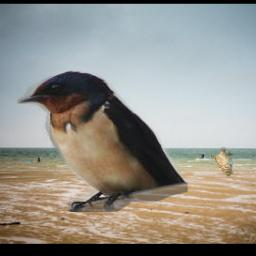Sparrow: (209, 148, 234, 177)
Swallow: (18, 69, 189, 212)
